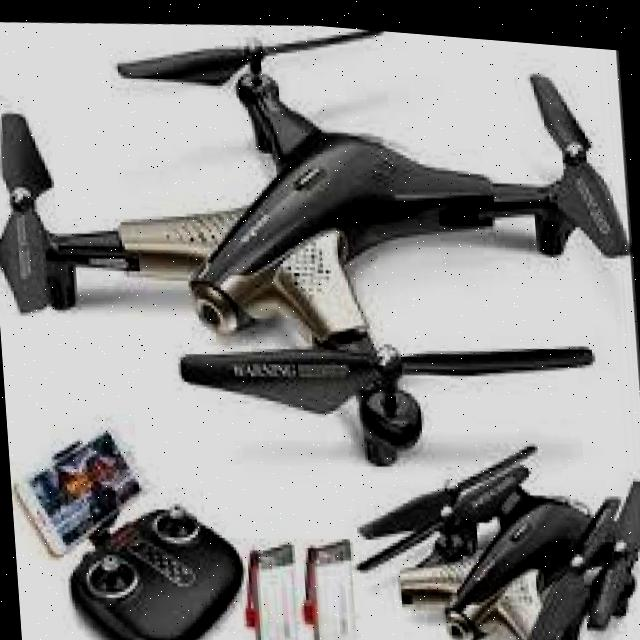drone: (0, 0, 640, 505)
